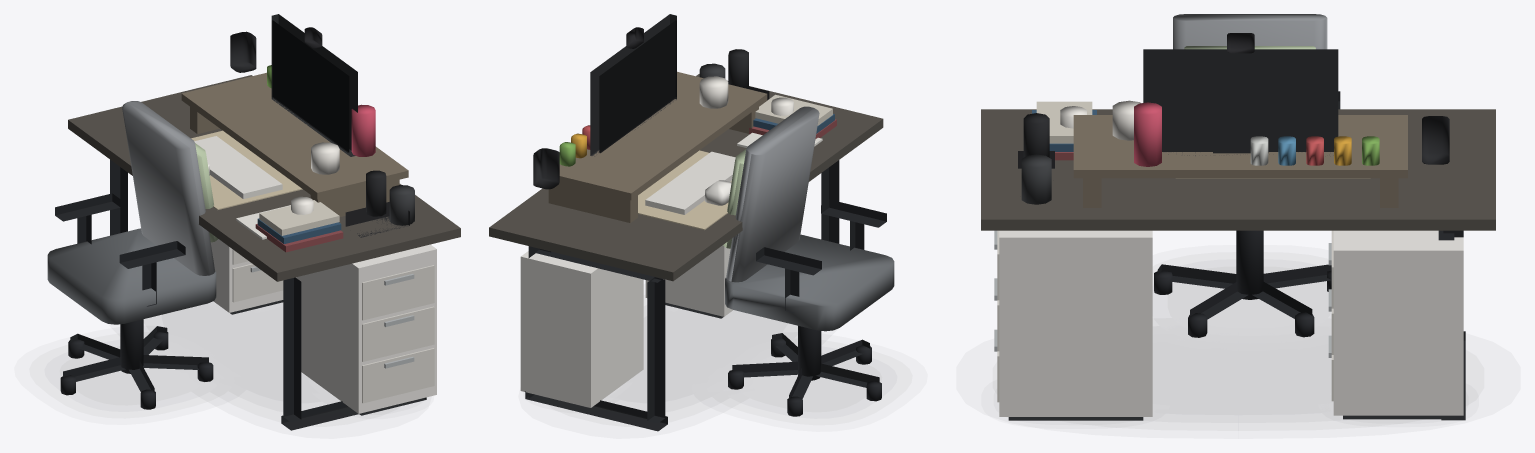
The model's file is office_workstation_east.glb.
3 views of the same model, side by side, from view 1: azimuth 30°, elevation 25°; view 2: azimuth 150°, elevation 25°; view 3: azimuth 270°, elevation 25° (orthographic). The views are drawn at different scales.
Parts seen in each view (by area): view 1: root; view 2: root; view 3: root.
Boxes of the visible parts, <box> form: root: <box>47,14,460,430</box>; root: <box>489,14,894,431</box>; root: <box>981,14,1495,424</box>.
Size of the model in its own units: 1.51 by 1.35 by 1.85.
